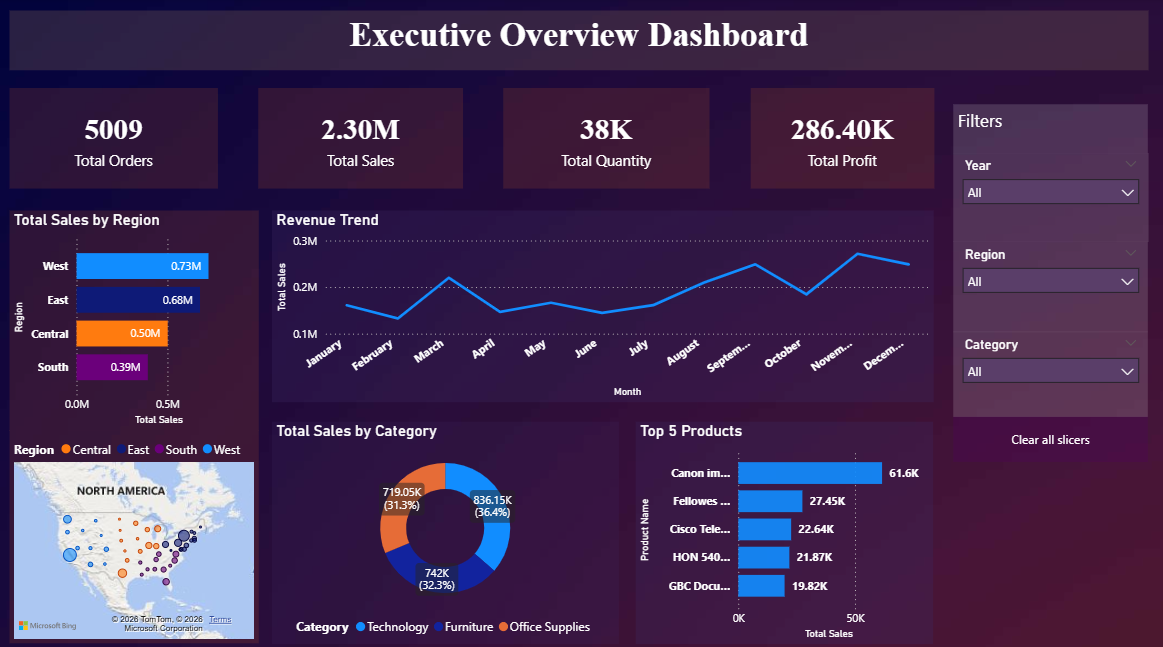

This screenshot's page, from the dashboard's own definition file:
{"tool":"powerbi","page":{"name":"Page 1","canvas":[1280,720],"ordinal":0},"visuals":[{"type":"card","fields":{"Values":["Sample - Superstore.Total Orders"]},"box":[13.7,98.3,228.9,110.7],"z":0},{"type":"card","fields":{"Values":["Sample - Superstore.Total Profit"]},"box":[827.2,98.3,201.5,110.7],"z":1000},{"type":"card","fields":{"Values":["Sample - Superstore.Total Quantity"]},"box":[556,98.3,226.4,110.7],"z":2000},{"type":"card","fields":{"Values":["Sample - Superstore.Total Sales"]},"box":[287.4,98.3,225.2,110.7],"z":3000},{"type":"lineChart","title":"Revenue Trend","fields":{"Category":["Sample - Superstore.Order Date.Variation.Date Hierarchy.Month"],"Y":["Sample - Superstore.Total Sales"]},"box":[302.3,233.9,726.5,210.2],"z":4000},{"type":"donutChart","fields":{"Category":["Sample - Superstore.Category"],"Y":["Sample - Superstore.Total Sales"]},"box":[302.3,465.2,380.7,243.8],"z":5000},{"type":"map","fields":{"Size":["Sample - Superstore.Total Sales"],"Category":["Sample - Superstore.State"],"Series":["Sample - Superstore.Region"]},"box":[13.7,475.2,273.7,233.9],"z":6000},{"type":"barChart","title":"Top 5 Products","fields":{"Y":["Sample - Superstore.Total Sales"],"Category":["Sample - Superstore.Product Name"]},"box":[701.2,465.2,326.6,244.3],"z":7000},{"type":"textbox","box":[13.7,13.7,1250.1,65.9],"z":8000},{"type":"barChart","fields":{"Category":["Sample - Superstore.Region"],"Y":["Sample - Superstore.Total Sales"]},"box":[13.7,233.9,273.7,241.3],"z":9000},{"type":"slicer","fields":{"Values":["Sample - Superstore.Order Date.Variation.Date Hierarchy.Year"]},"box":[1049.7,170.2,214.1,97.4],"z":10000},{"type":"slicer","fields":{"Values":["Sample - Superstore.Region"]},"box":[1049.9,267.5,214,99.5],"z":11000},{"type":"slicer","fields":{"Values":["Sample - Superstore.Category"]},"box":[1049.9,367,214,93.3],"z":12000},{"type":"actionButton","box":[1049.9,460.3,214,49.8],"z":13000},{"type":"textbox","box":[1049.9,116.9,214,53.5],"z":14000}]}

Visuals, with their boxes in screenshot pixels (x1, y1, x2, y2), scaled from the page's 1280x720 canvas onto the 1163x647 screenshot:
card - Sample - Superstore.Total Orders: region(12, 88, 220, 188)
card - Sample - Superstore.Total Profit: region(752, 88, 935, 188)
card - Sample - Superstore.Total Quantity: region(505, 88, 711, 188)
card - Sample - Superstore.Total Sales: region(261, 88, 466, 188)
"Revenue Trend" lineChart: region(275, 210, 935, 399)
donutChart - Sample - Superstore.Category x Sample - Superstore.Total Sales: region(275, 418, 621, 637)
map - Sample - Superstore.Total Sales x Sample - Superstore.State: region(12, 427, 261, 637)
"Top 5 Products" barChart: region(637, 418, 934, 638)
textbox: region(12, 12, 1148, 72)
barChart - Sample - Superstore.Region x Sample - Superstore.Total Sales: region(12, 210, 261, 427)
slicer - Sample - Superstore.Order Date.Variation.Date Hierarchy.Year: region(954, 153, 1148, 240)
slicer - Sample - Superstore.Region: region(954, 240, 1148, 330)
slicer - Sample - Superstore.Category: region(954, 330, 1148, 414)
actionButton: region(954, 414, 1148, 458)
textbox: region(954, 105, 1148, 153)
